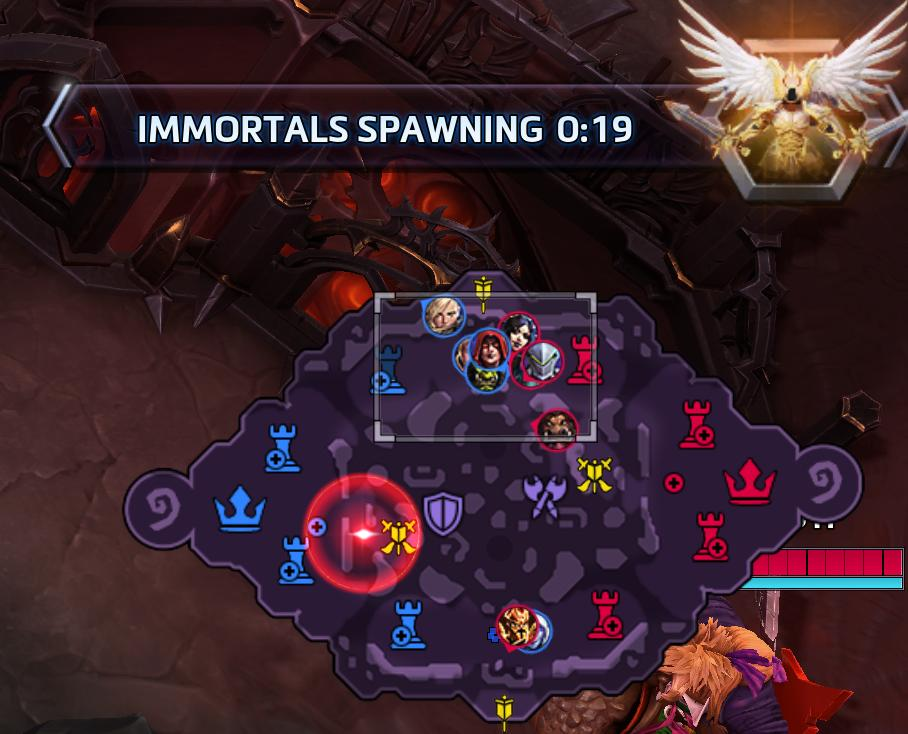blue nexus: (210, 480, 271, 537)
blue player: (453, 335, 506, 393), (514, 609, 563, 654), (422, 295, 464, 338), (464, 357, 508, 394), (451, 335, 476, 375)
blue tower: (274, 533, 319, 589), (263, 417, 307, 473), (370, 342, 407, 396), (389, 598, 426, 650)
red nexus: (717, 457, 782, 510)
red player: (516, 339, 563, 388), (535, 408, 578, 453), (494, 604, 535, 650), (498, 310, 538, 352), (471, 329, 508, 370)
red tower: (672, 395, 721, 455), (582, 586, 630, 643), (691, 509, 732, 564)
